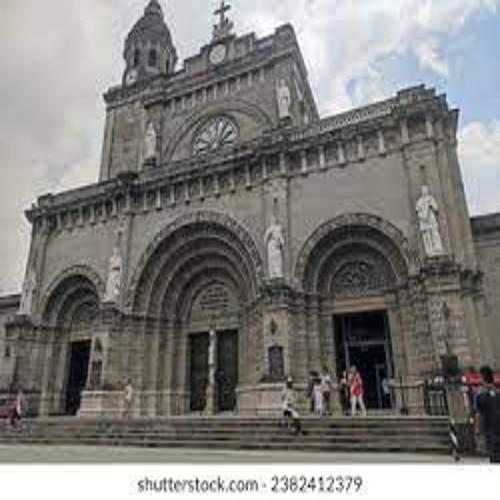Manila Cathedral Church: (7, 2, 491, 438)
